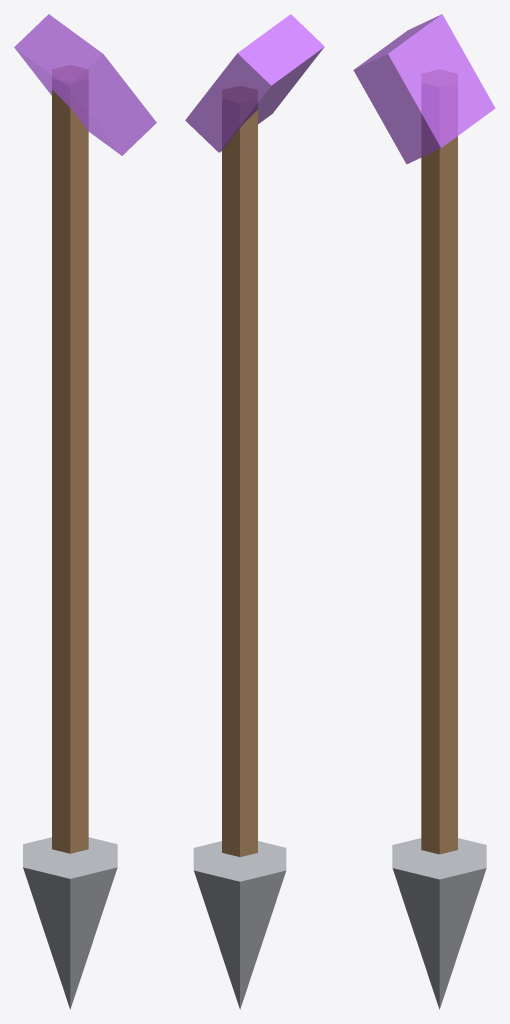
The model's file is plasma_bolt_projectile.glb.
The picture shows the model from 3 angles, left to right: view 1: azimuth 30°, elevation 25°; view 2: azimuth 150°, elevation 25°; view 3: azimuth 330°, elevation 25°; orthographic projection. The views are drawn at different scales.
Visible parts, largest first — view 1: shaft, tip, fletching_a; view 2: shaft, tip, fletching_a; view 3: shaft, fletching_a, tip.
Part boxes in pixels (box(x1,y1,x2,y2)): shaft: box(52, 65, 88, 853); tip: box(23, 837, 117, 1009); fletching_a: box(14, 14, 156, 155); shaft: box(222, 86, 257, 856); tip: box(193, 841, 286, 1009); fletching_a: box(185, 14, 324, 152); shaft: box(421, 70, 457, 854); fletching_a: box(353, 14, 495, 164); tip: box(392, 838, 486, 1009).
Size of the model in its own units: 0.18 by 1.8 by 0.2179.
